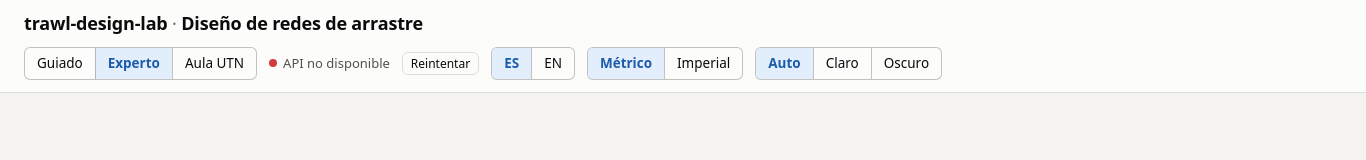
ConnectionProvider + indicador › sin respuesta: «despertando», luego «no disponible» y «Reintentar» recupera
The image size is (1366, 160).
Check: the text "API no disponible" is shown, box [269, 54, 390, 73]
Click the button "Reintentar" at (441, 63), box [402, 52, 479, 75]
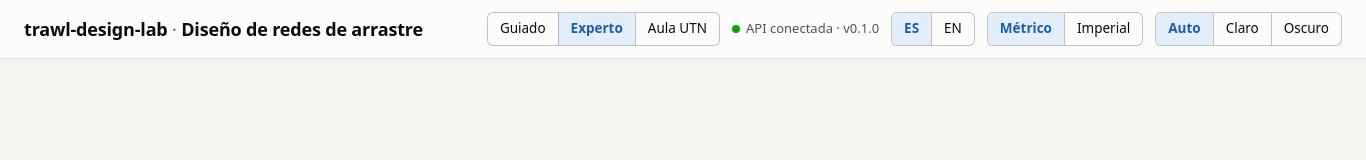
Check: the text "API conectada · v0.1.0" is shown, box [732, 19, 879, 38]
Check: the button "Reintentar" is gone
